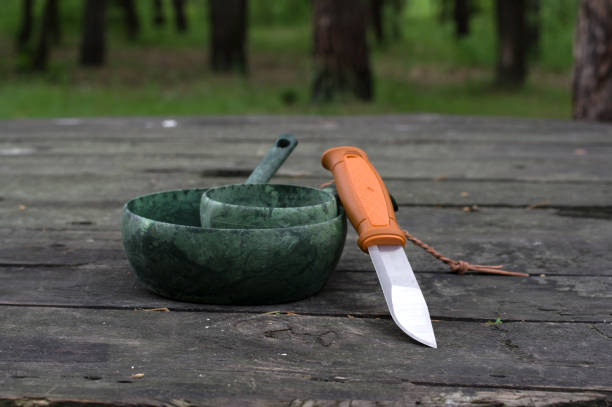knife: (319, 143, 438, 350)
